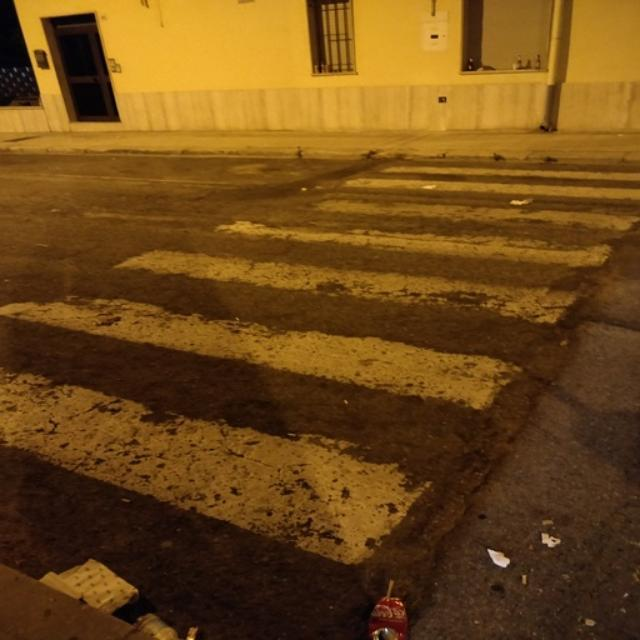sidewalk: (0, 162, 640, 564)
